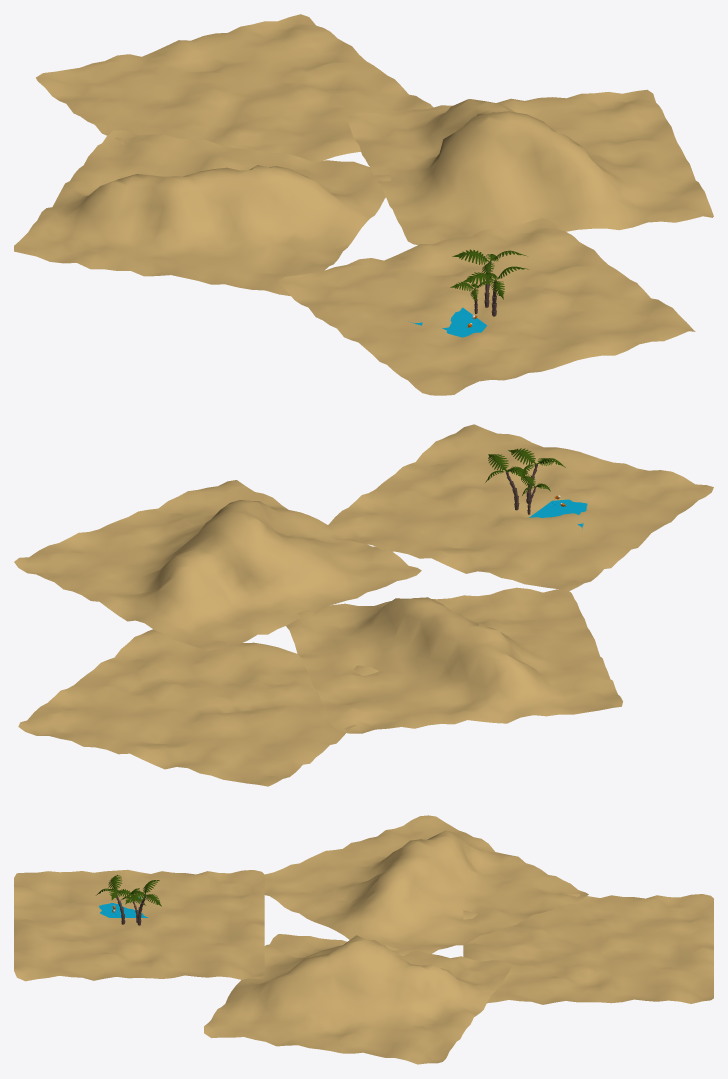
File: Desert.glb
3 views of the same model, one above another, from view 1: azimuth 30°, elevation 25°; view 2: azimuth 150°, elevation 25°; view 3: azimuth 270°, elevation 25° (orthographic). The views are drawn at different scales.
Parts seen in each view (by area): view 1: Sol.002_Plane.006, Sol.001_Plane.005, Sol_Plane.001, Sol.003_Plane.007, Plane_Plane.004, Palmier.001_Cylinder.003, Palmier_Cylinder.002; view 2: Sol.002_Plane.006, Sol.001_Plane.005, Sol_Plane.001, Sol.003_Plane.007, Plane_Plane.004, Palmier_Cylinder.002, Palmier.001_Cylinder.003; view 3: Sol.002_Plane.006, Sol.001_Plane.005, Sol_Plane.001, Sol.003_Plane.007, Palmier_Cylinder.002, Palmier.001_Cylinder.003, Plane_Plane.004.
Boxes of the visible parts, left/top/right/bottom form: Sol.002_Plane.006: left=347, top=89, right=713, bottom=244; Sol.001_Plane.005: left=14, top=130, right=390, bottom=296; Sol_Plane.001: left=278, top=218, right=695, bottom=395; Sol.003_Plane.007: left=36, top=14, right=433, bottom=161; Plane_Plane.004: left=408, top=307, right=486, bottom=337; Palmier.001_Cylinder.003: left=461, top=266, right=528, bottom=316; Palmier_Cylinder.002: left=452, top=249, right=527, bottom=307; Sol.002_Plane.006: left=14, top=480, right=421, bottom=650; Sol.001_Plane.005: left=286, top=587, right=622, bottom=733; Sol_Plane.001: left=320, top=424, right=713, bottom=590; Sol.003_Plane.007: left=18, top=629, right=378, bottom=786; Plane_Plane.004: left=529, top=499, right=587, bottom=528; Palmier_Cylinder.002: left=485, top=454, right=528, bottom=510; Palmier.001_Cylinder.003: left=508, top=448, right=565, bottom=503; Sol.002_Plane.006: left=204, top=934, right=511, bottom=1064; Sol.001_Plane.005: left=264, top=815, right=588, bottom=955; Sol_Plane.001: left=14, top=869, right=264, bottom=981; Sol.003_Plane.007: left=463, top=894, right=713, bottom=1004; Palmier_Cylinder.002: left=128, top=880, right=161, bottom=925; Palmier.001_Cylinder.003: left=96, top=875, right=132, bottom=924; Plane_Plane.004: left=99, top=897, right=148, bottom=917.
Bounding box in the file's own units: 48.04 × 5.32 × 56.96.
